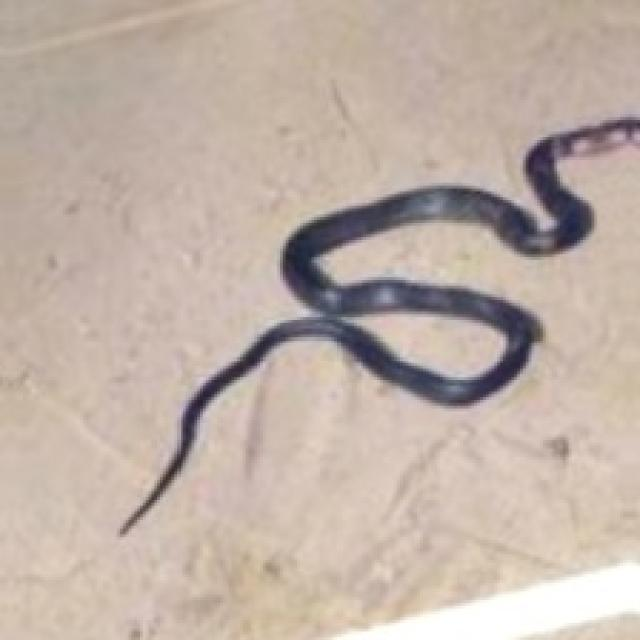king cobra: (120, 117, 637, 531)
